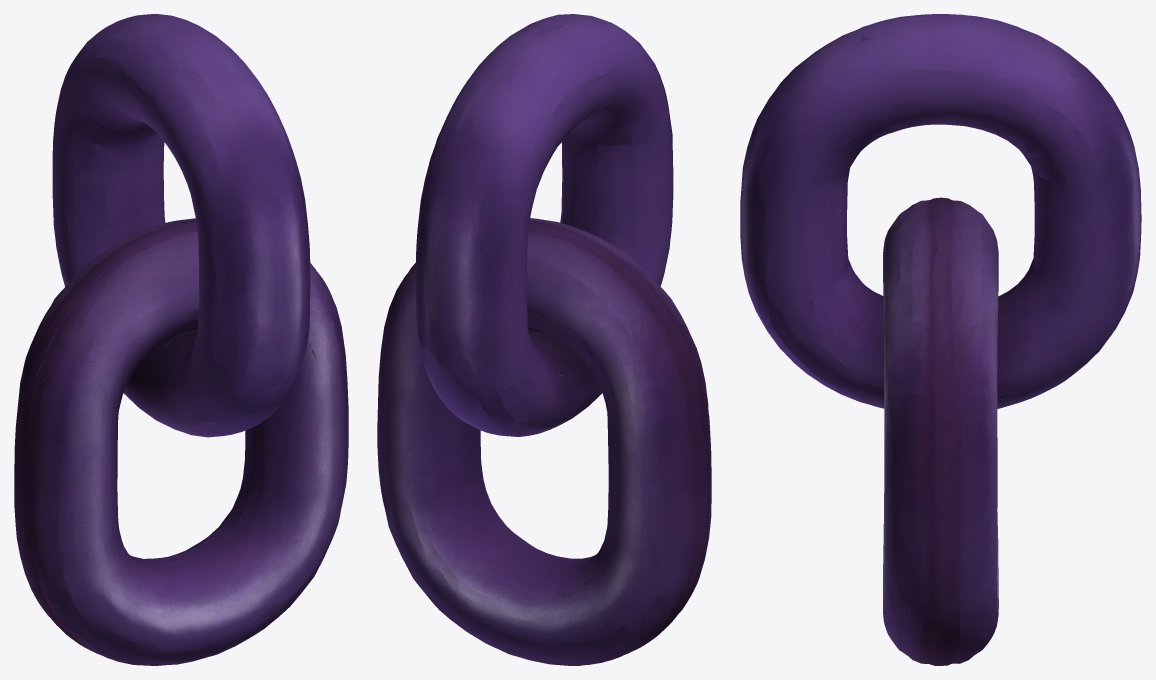
The model's file is tool-links.glb.
The picture shows the model from 3 angles, left to right: view 1: azimuth 30°, elevation 25°; view 2: azimuth 150°, elevation 25°; view 3: azimuth 270°, elevation 25°; orthographic projection.
Parts seen in each view (by area): view 1: Mesh_0; view 2: Mesh_0; view 3: Mesh_0.
Part boxes in pixels (left/top/right/bottom): Mesh_0: left=14, top=14, right=348, bottom=665; Mesh_0: left=377, top=14, right=711, bottom=665; Mesh_0: left=740, top=14, right=1141, bottom=665.
Size of the model in its own units: 0.5328 by 1 by 0.5784.
1 material, 1 textured.
